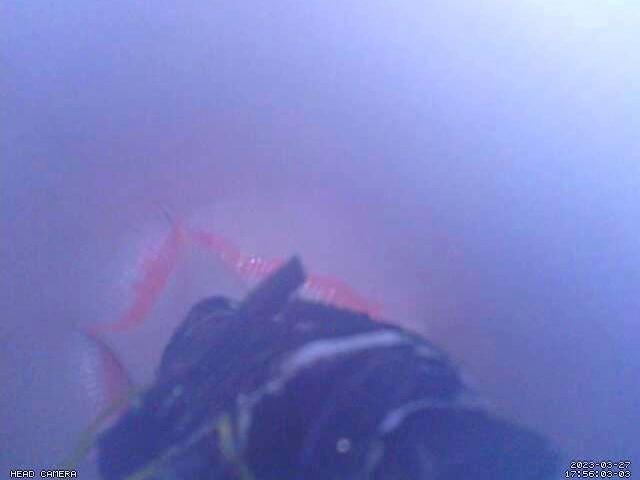head: (79, 214, 385, 420)
